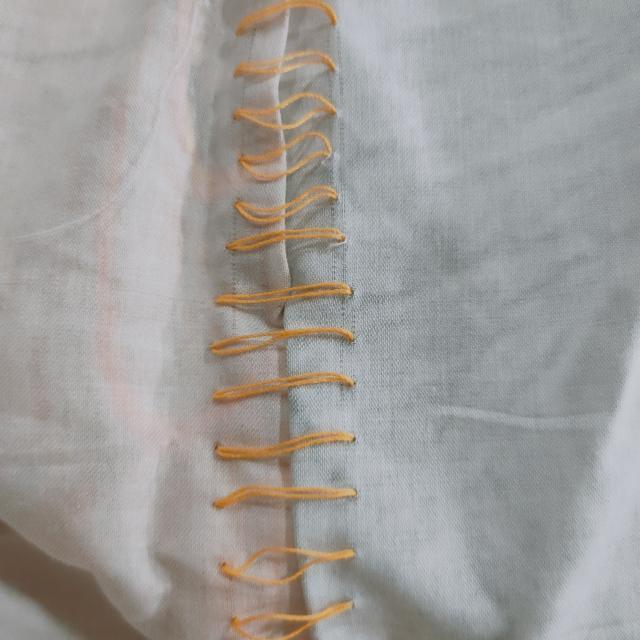Stitch: (172, 2, 416, 640)
